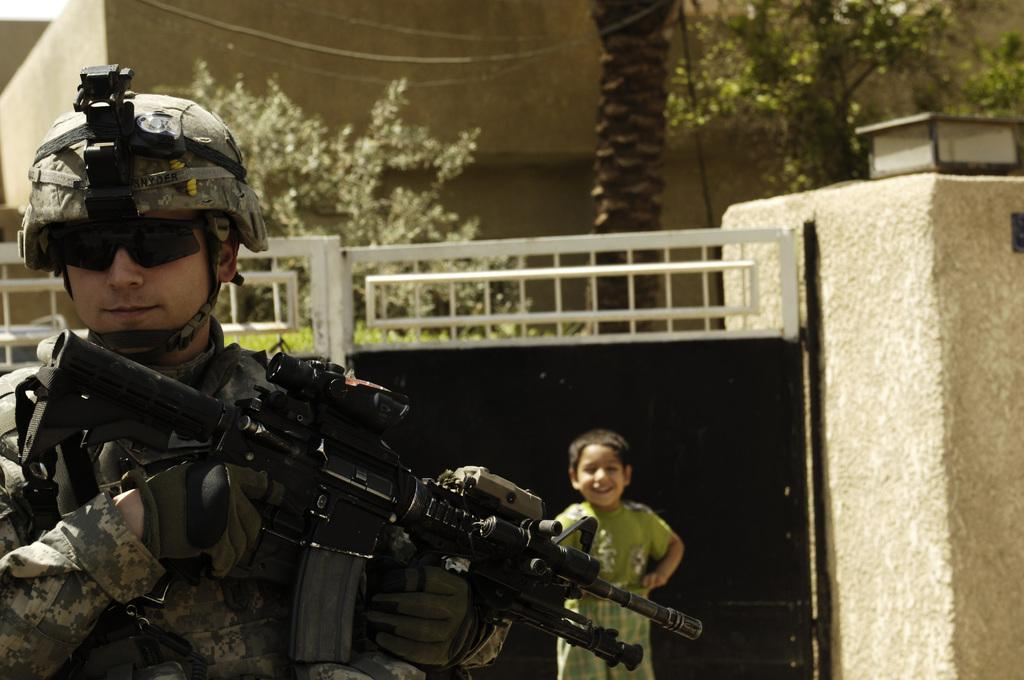Rifle: (99, 378, 719, 663)
